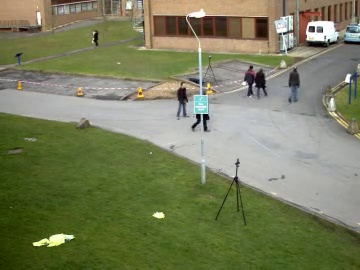person: (174, 81, 191, 122), (175, 82, 192, 121), (175, 80, 191, 121)
